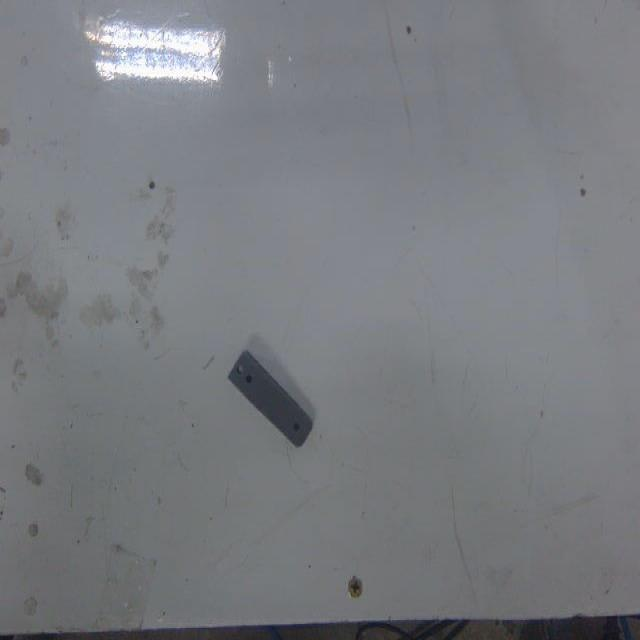grey: (227, 349, 315, 451)
head: (292, 419, 300, 432)
